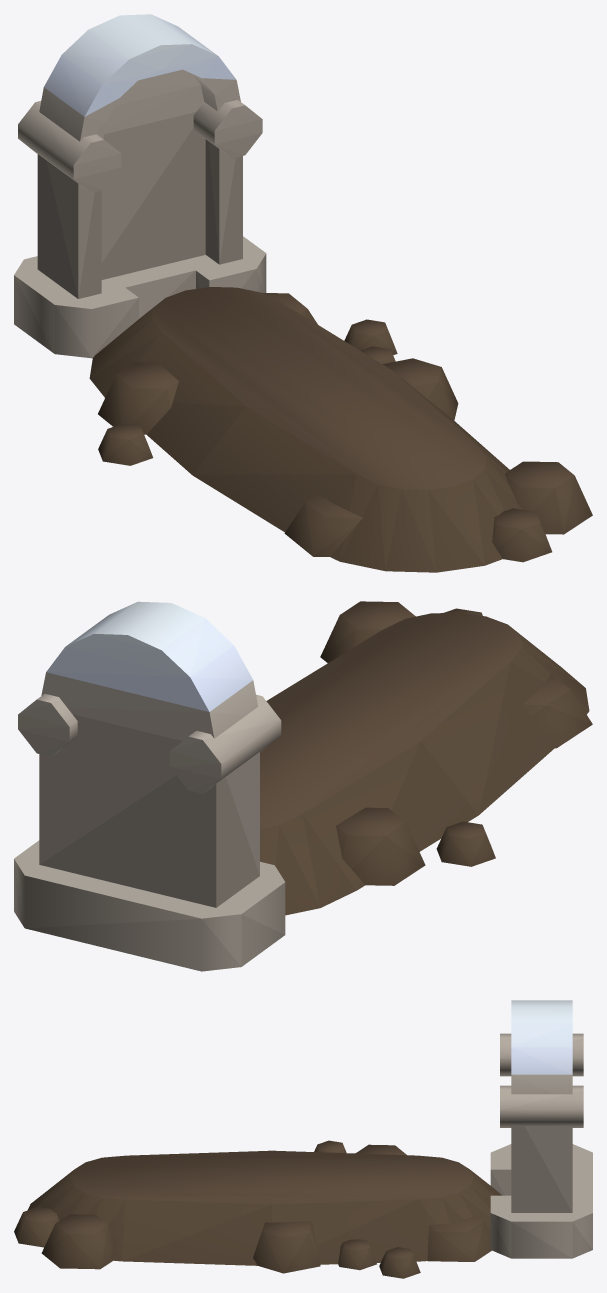
Rendered from kenney_graveyard_grave_gravestone_round.glb.
3 renders of one model, top to bottom at view 1: azimuth 30°, elevation 25°; view 2: azimuth 150°, elevation 25°; view 3: azimuth 270°, elevation 25°, orthographic. The views are drawn at different scales.
Visible parts, largest first — view 1: stone (×2), cloth; view 2: stone (×2), cloth; view 3: stone (×2), cloth.
Part boxes in pixels (left/top/right/bottom): stone (×2): left=14, top=69, right=592, bottom=572; cloth: left=44, top=14, right=236, bottom=116; stone (×2): left=14, top=601, right=592, bottom=971; cloth: left=46, top=601, right=252, bottom=711; stone (×2): left=14, top=1033, right=592, bottom=1278; cloth: left=511, top=1000, right=572, bottom=1074.
Size of the model in its own units: 0.7238 by 0.575 by 1.42.
